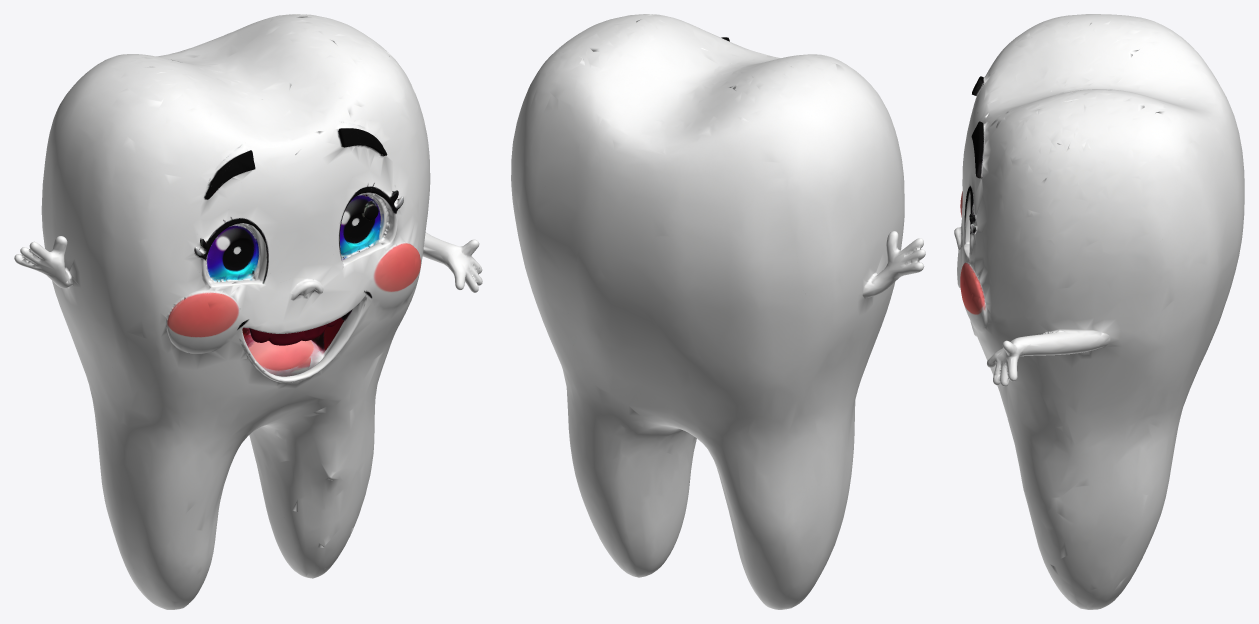
Rendered from meshy-refined.glb.
3 renders of one model, left to right at view 1: azimuth 30°, elevation 25°; view 2: azimuth 150°, elevation 25°; view 3: azimuth 270°, elevation 25°, orthographic. The views are drawn at different scales.
Size of the model in its own units: 1.55 by 1.91 by 0.9743.
Materials: 1 (1 with a texture image).
